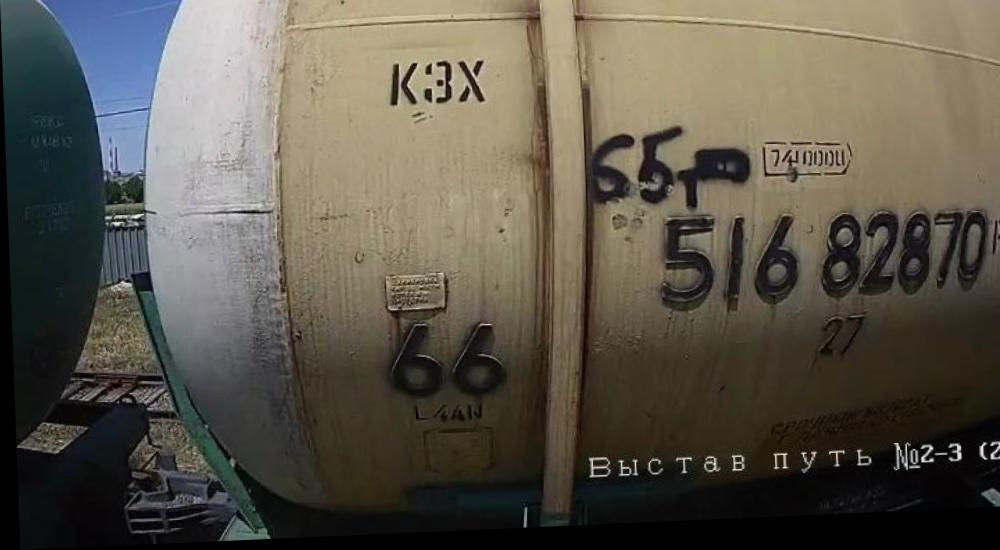Wagon-number: (648, 206, 993, 326)
